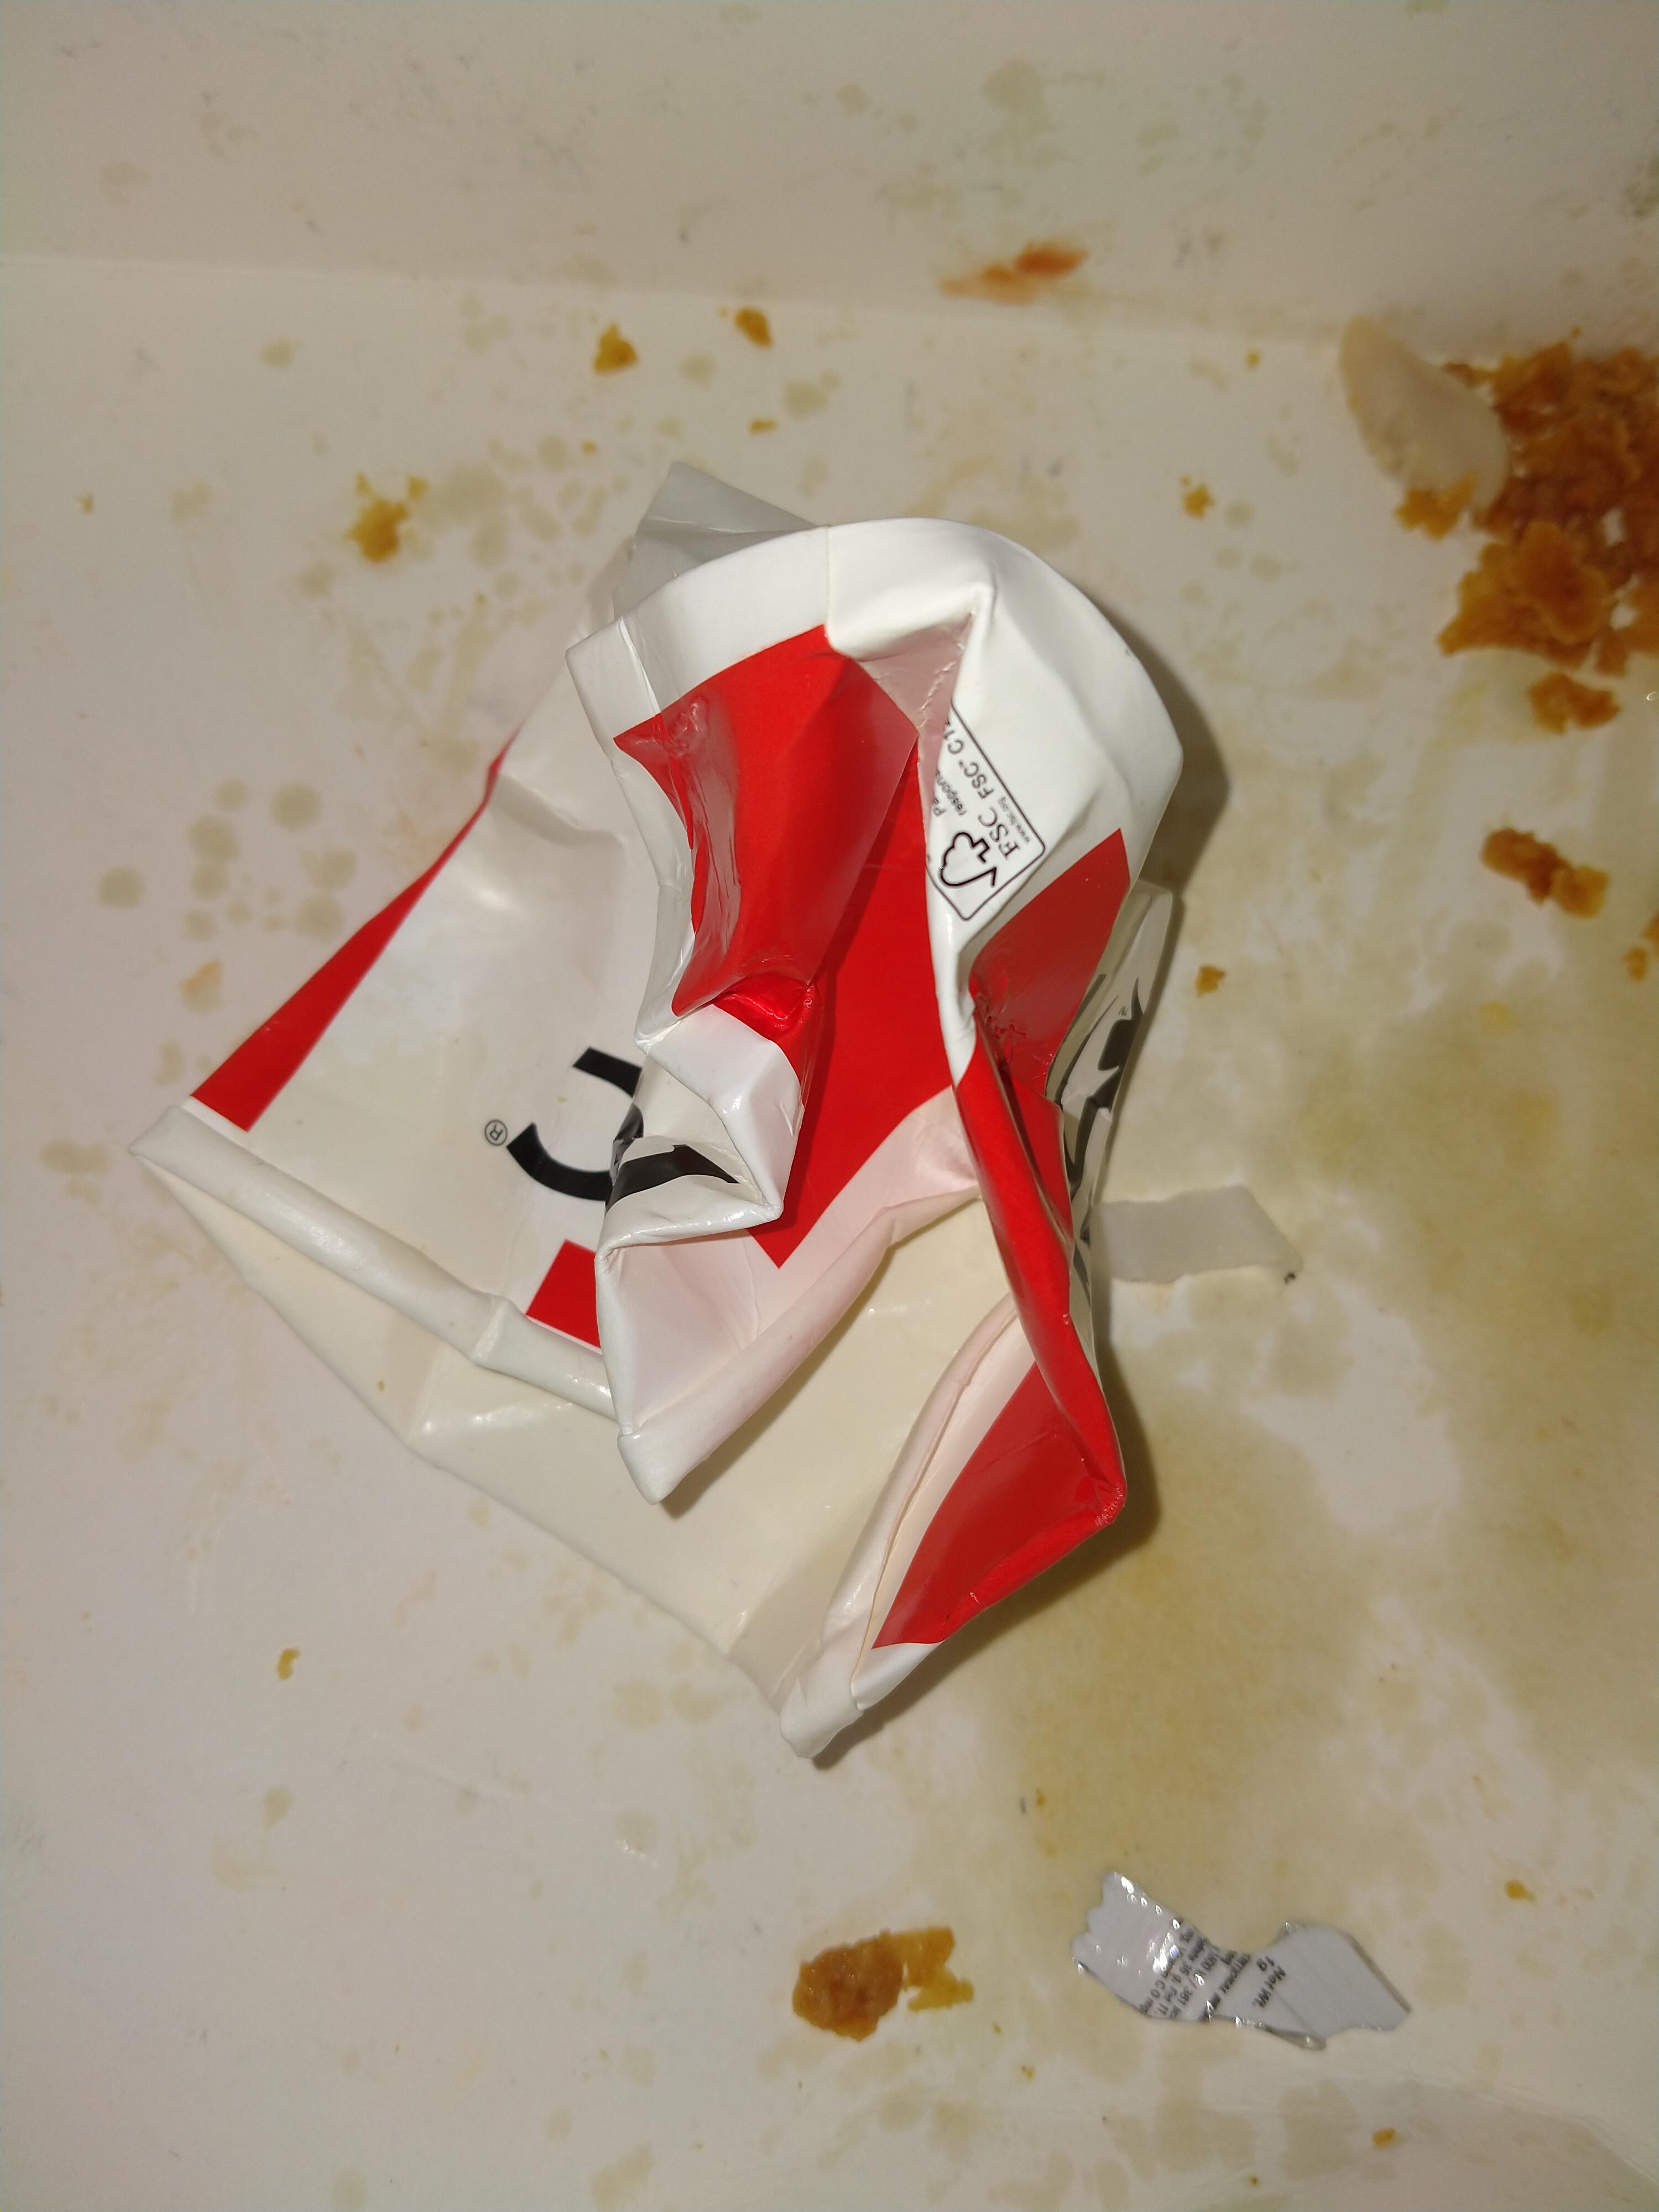paper: (96, 432, 1262, 1806)
